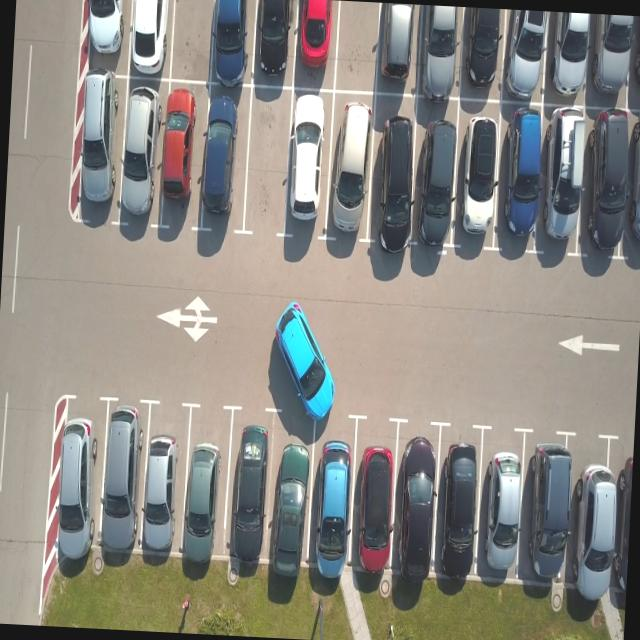car: (562, 447, 626, 607), (516, 430, 576, 591), (92, 396, 149, 564), (178, 402, 235, 562), (348, 414, 402, 582), (389, 418, 442, 582), (265, 418, 318, 578), (197, 82, 252, 236), (324, 92, 379, 244), (533, 110, 591, 254), (70, 73, 126, 222), (475, 424, 528, 581), (154, 80, 207, 236), (432, 422, 484, 576), (306, 421, 359, 568), (284, 86, 334, 239), (408, 111, 463, 249), (368, 99, 420, 243), (452, 113, 507, 249), (116, 78, 164, 228), (228, 408, 274, 562), (142, 396, 186, 556), (586, 110, 628, 264), (63, 398, 104, 554), (498, 100, 540, 252), (583, 14, 639, 108), (500, 10, 552, 100), (374, 2, 422, 94), (419, 5, 465, 101), (291, 0, 340, 88), (460, 7, 506, 97), (250, 0, 298, 86), (208, 0, 257, 84), (546, 11, 588, 106), (125, 0, 175, 78), (81, 0, 133, 74), (620, 116, 640, 262)
free: (242, 85, 294, 236), (332, 1, 384, 92), (167, 0, 216, 82)
